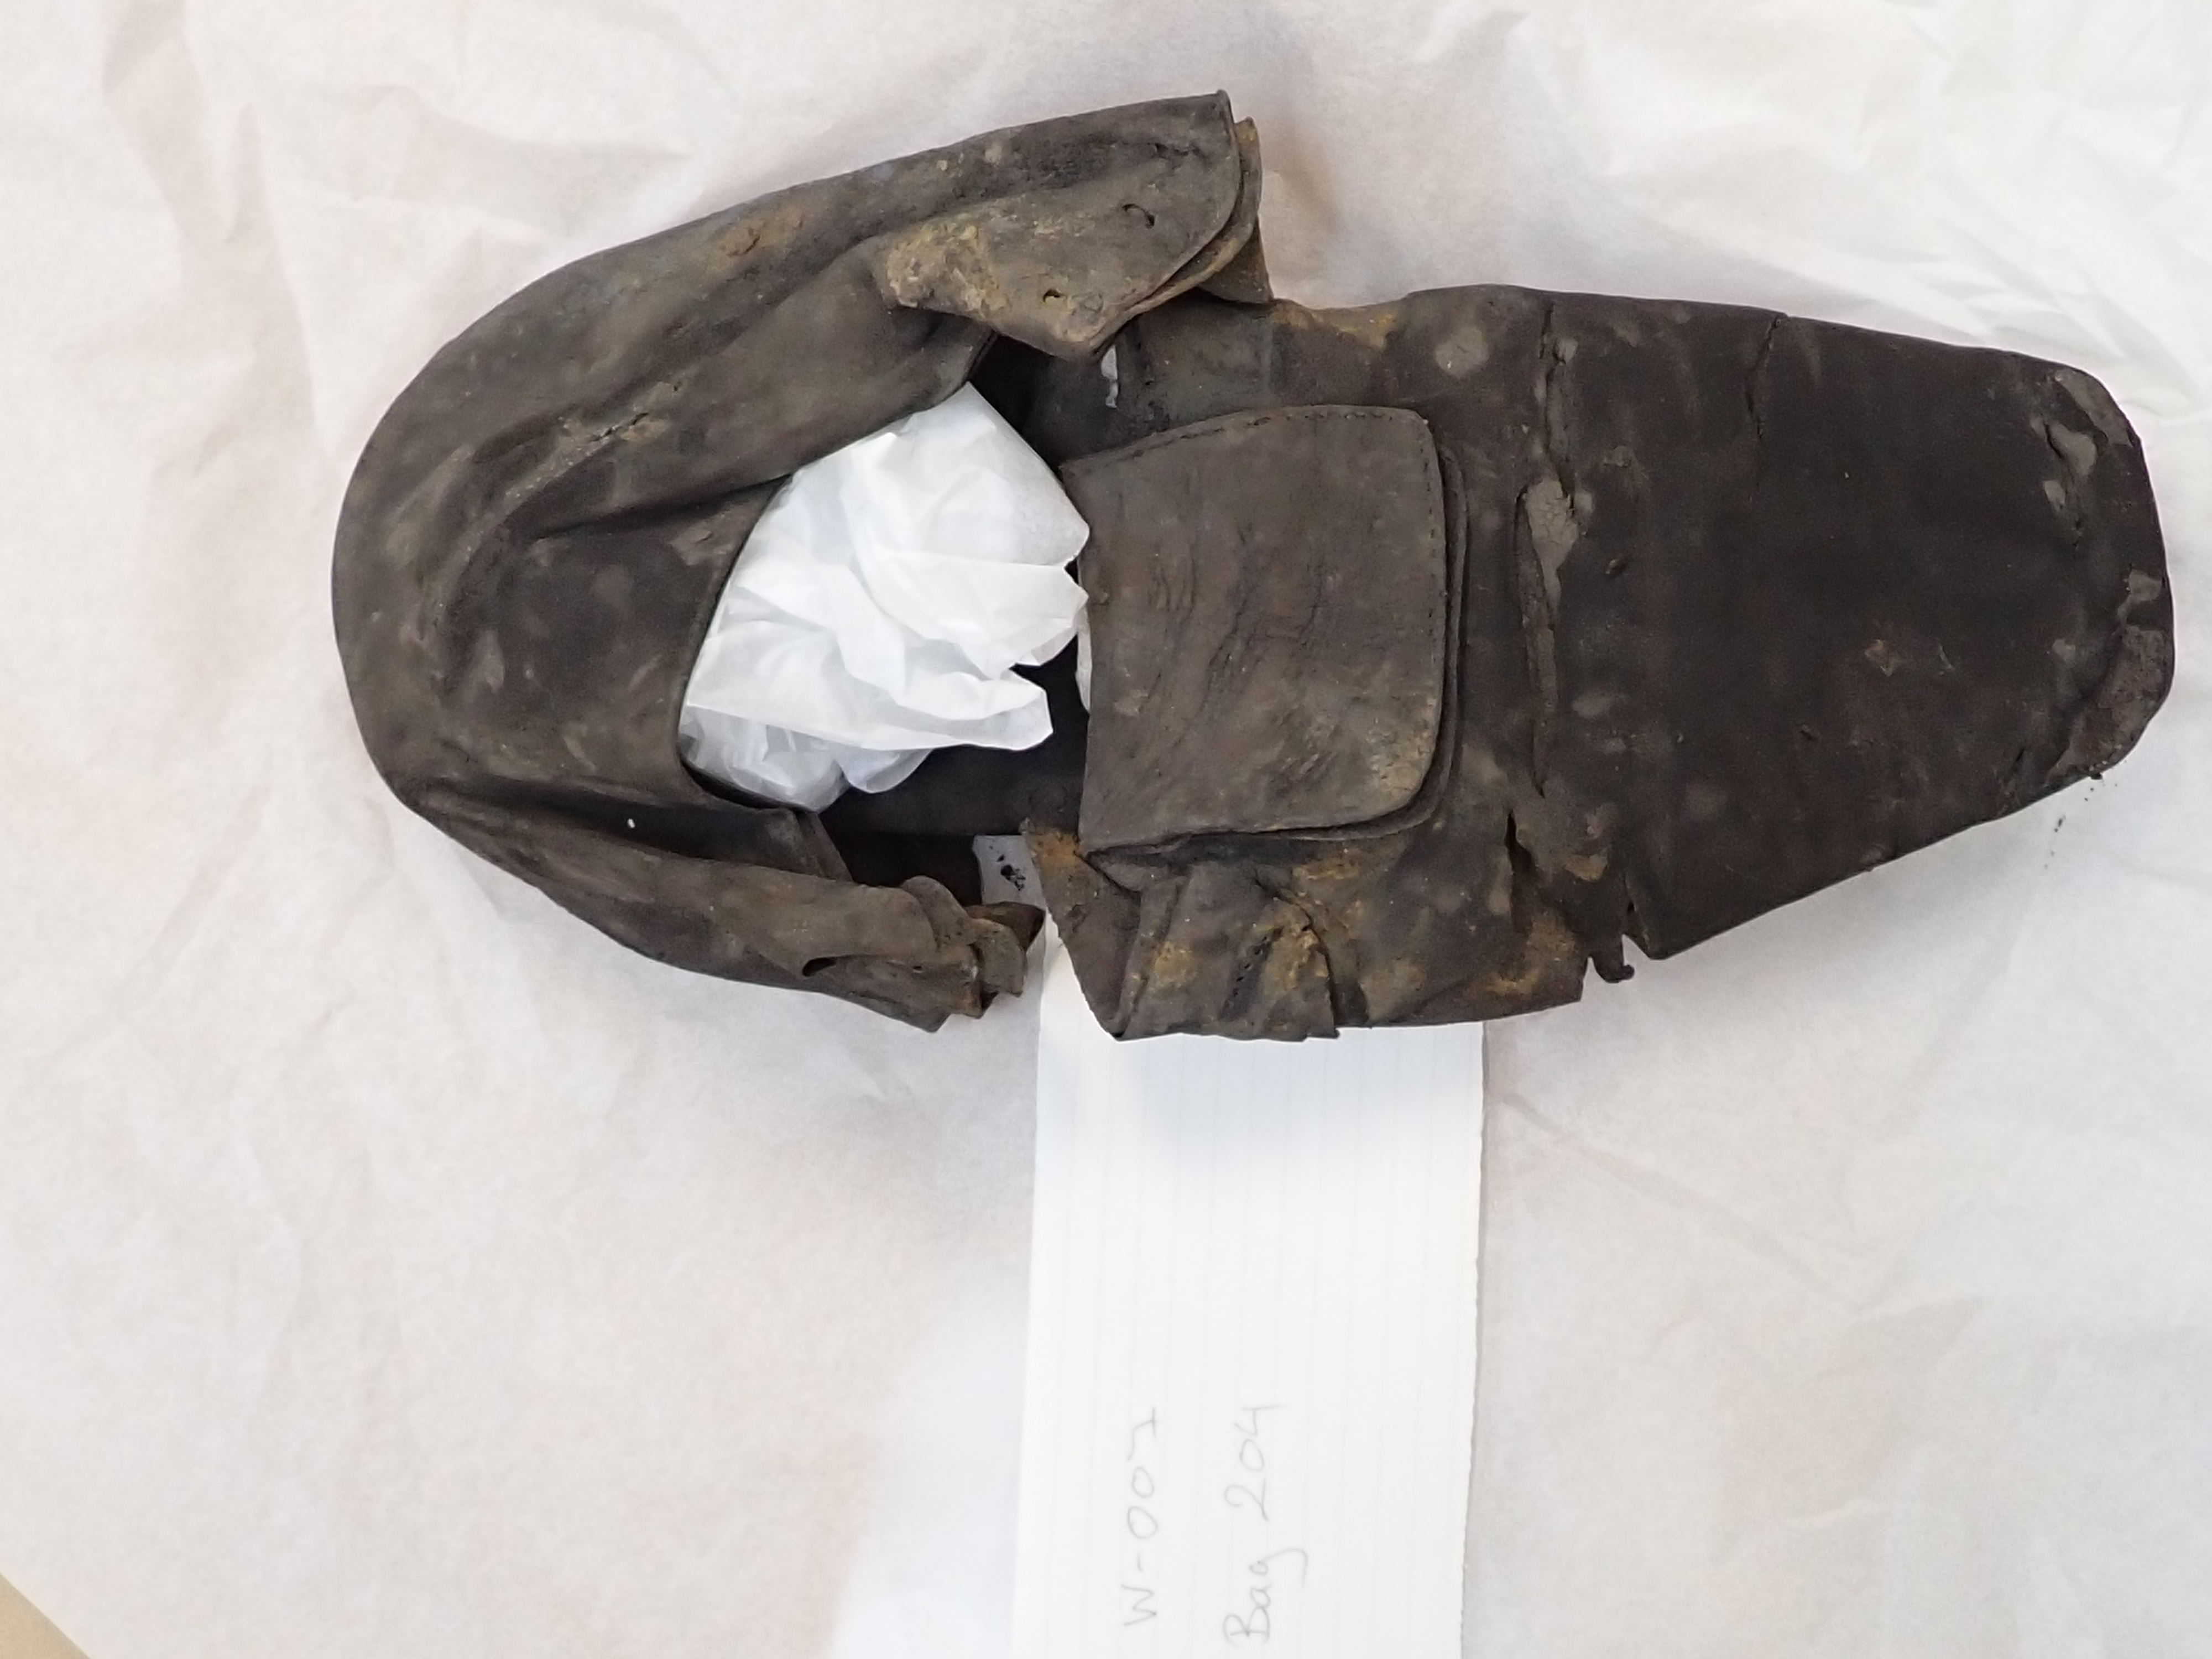Counted_Objects: (282, 75, 2212, 1042)
Not_Counted_Objects: (995, 1044, 1507, 1659)
